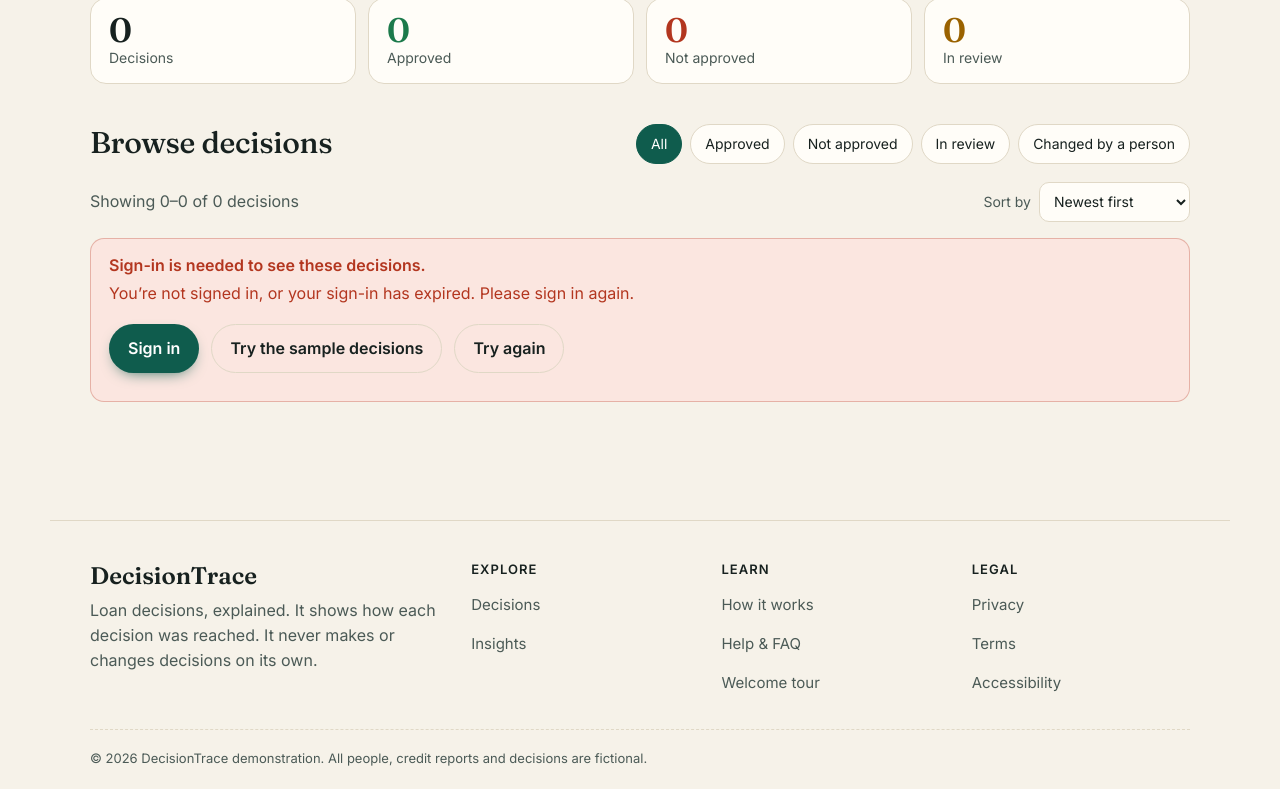
Test: Site pages, onboarding and usage › footer offers About, Help, Privacy, Terms and Accessibility pages that navigate
(page scrolled)
Click the link "How it works" at (768, 604), box [722,595,814,614]
(page scrolled)
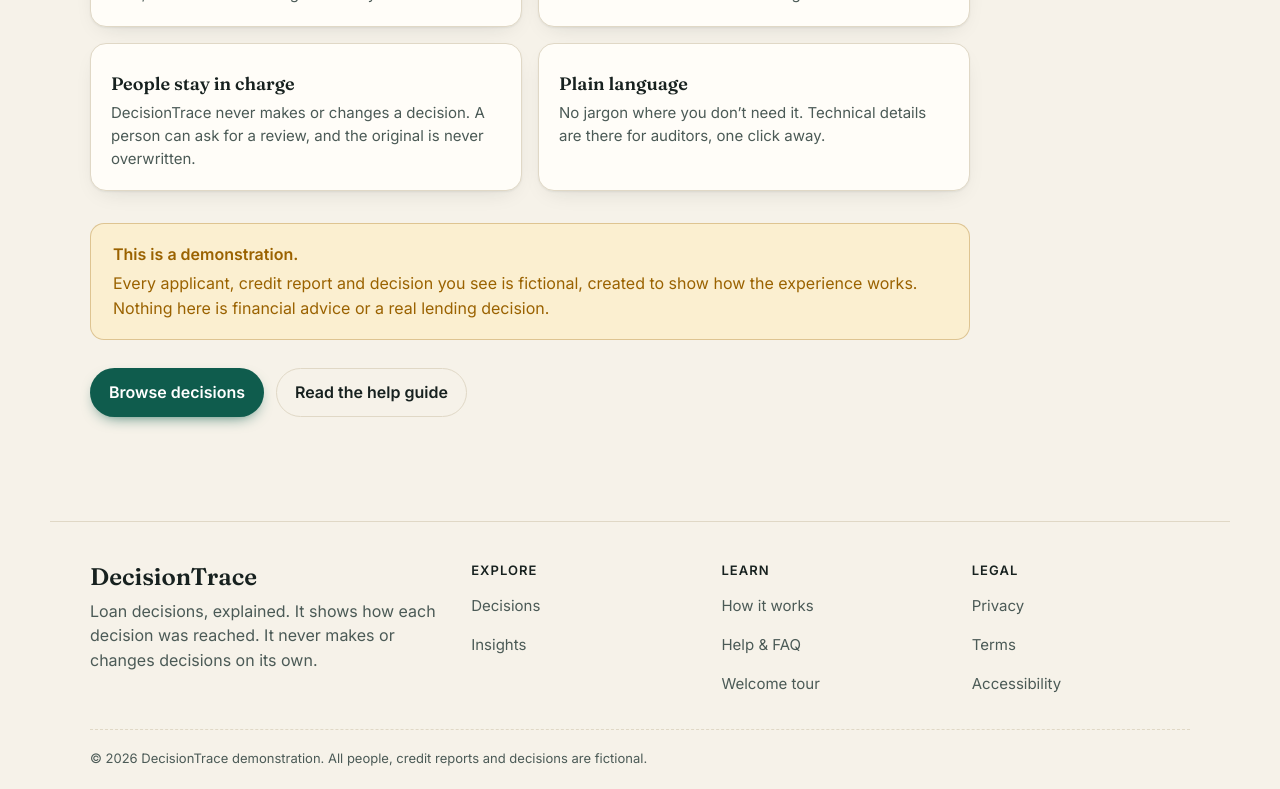
Click the link "Privacy" at (998, 605), box [972,596,1024,614]
(page scrolled)
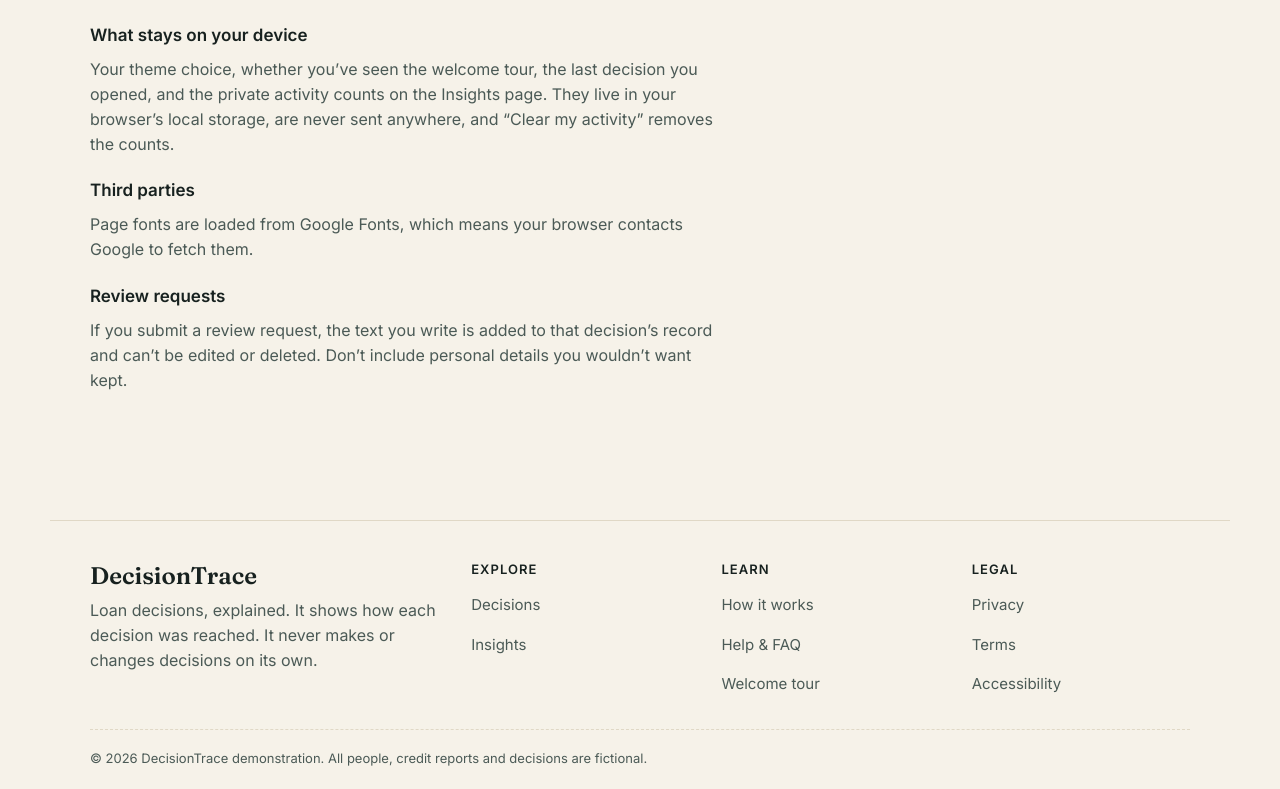
Click the link "Terms" at (994, 644), box [972,635,1016,654]
(page scrolled)
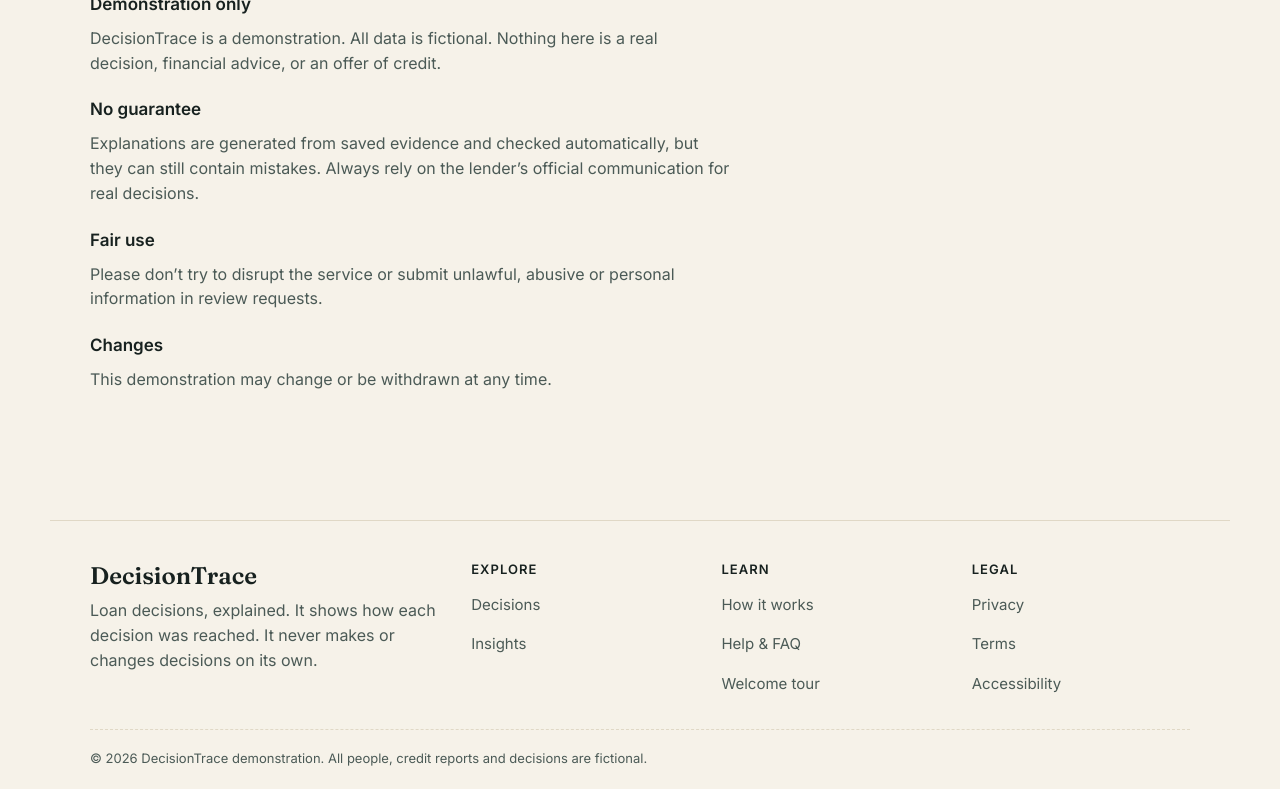
Click the link "Accessibility" at (1016, 683), box [972,674,1061,693]
(page scrolled)
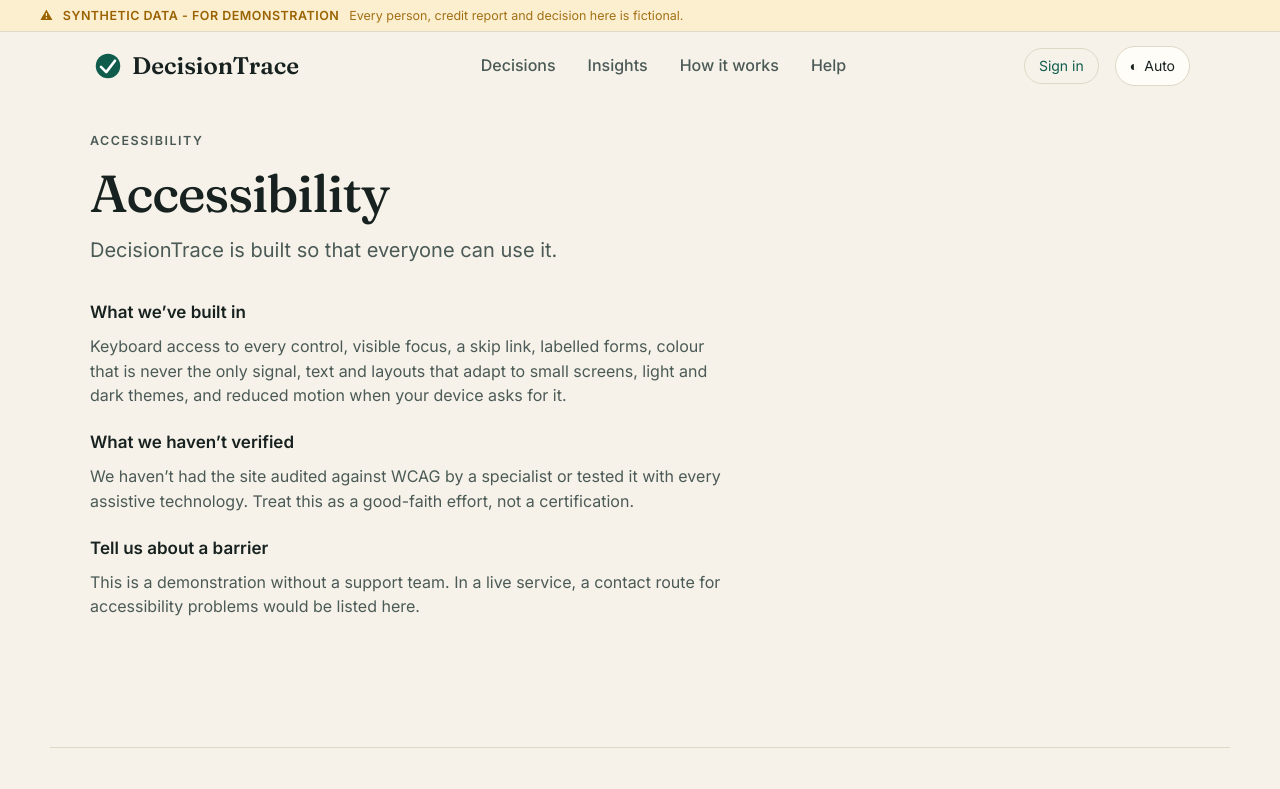
Now the heading "Accessibility" is shown, box [90,160,389,224]
